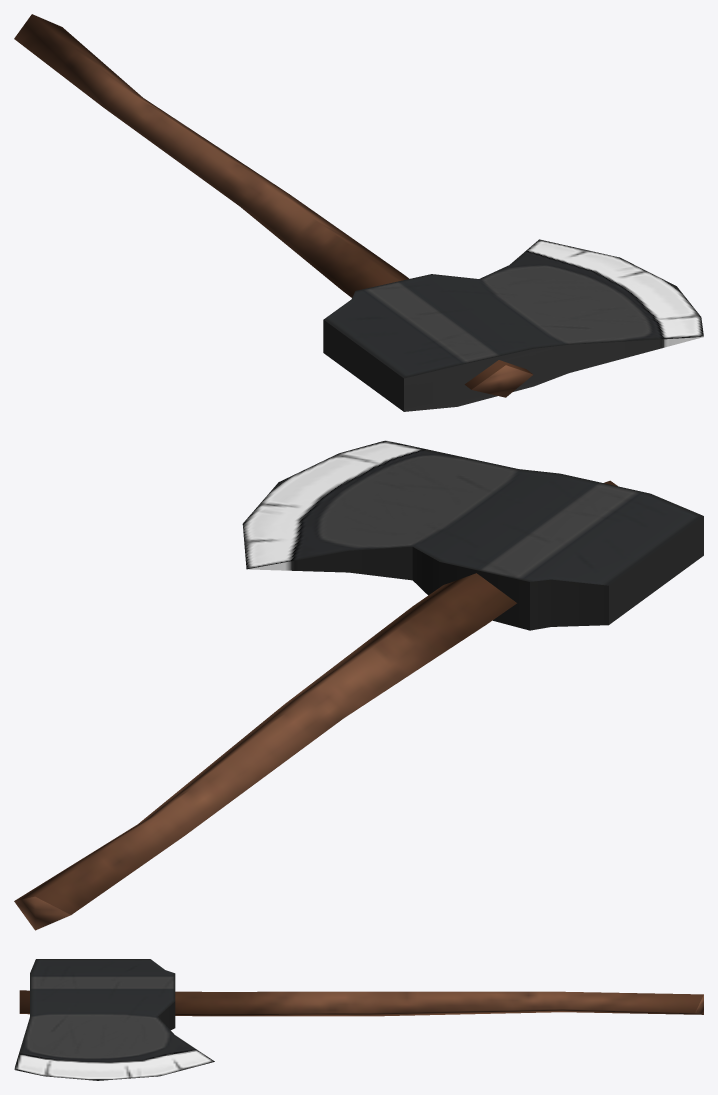
The model's file is normaly_axe.FBX.
3 views of the same model, one above another, from view 1: azimuth 30°, elevation 25°; view 2: azimuth 150°, elevation 25°; view 3: azimuth 270°, elevation 25° (orthographic). The views are drawn at different scales.
Visible parts, largest first — view 1: normaly_axe; view 2: normaly_axe; view 3: normaly_axe.
Boxes of the visible parts, x1,y1,x2,y2 form: normaly_axe: (14,14,703,411); normaly_axe: (14,440,703,930); normaly_axe: (14,959,703,1080).
Bounding box in the file's own units: 33.92 × 4.22 × 89.95.
